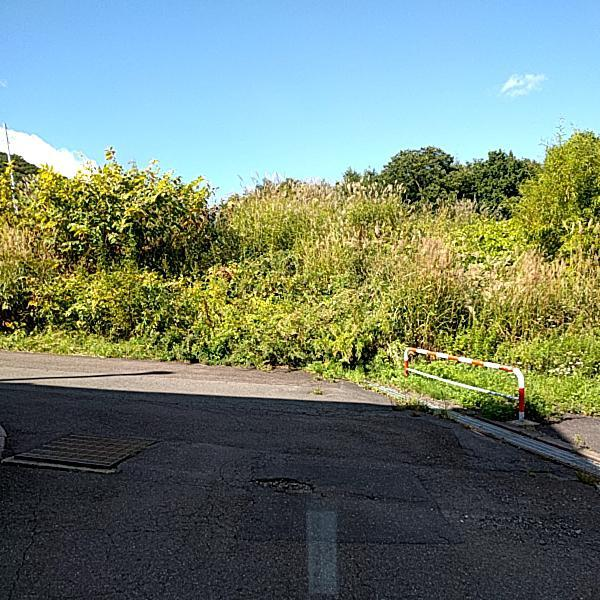D40: (242, 464, 323, 502)
